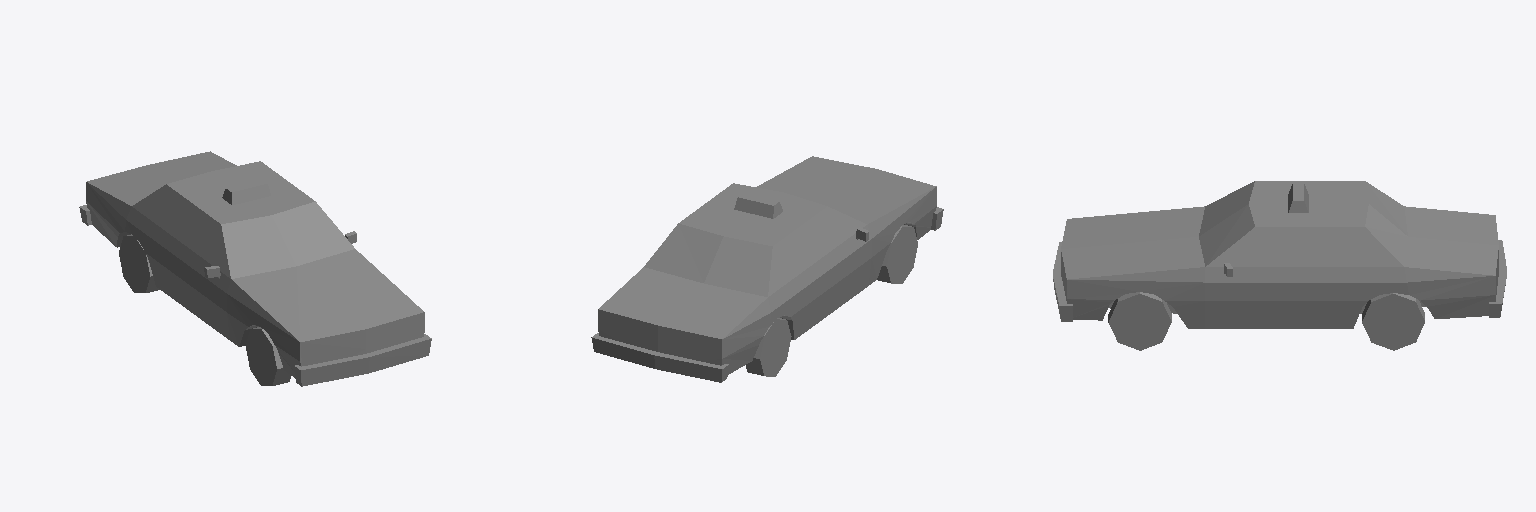
File: Car5_Taxi.obj
3 renders of one model, left to right at view 1: azimuth 30°, elevation 25°; view 2: azimuth 150°, elevation 25°; view 3: azimuth 270°, elevation 25°, orthographic.
Parts seen in each view (by area): view 1: Car5_Taxi; view 2: Car5_Taxi; view 3: Car5_Taxi.
Part boxes in pixels (x1,y1,x2,y2): Car5_Taxi: (79,151,431,386); Car5_Taxi: (591,156,943,382); Car5_Taxi: (1053,181,1506,350).
Bounding box in the file's own units: 2.78 × 2.24 × 7.3.